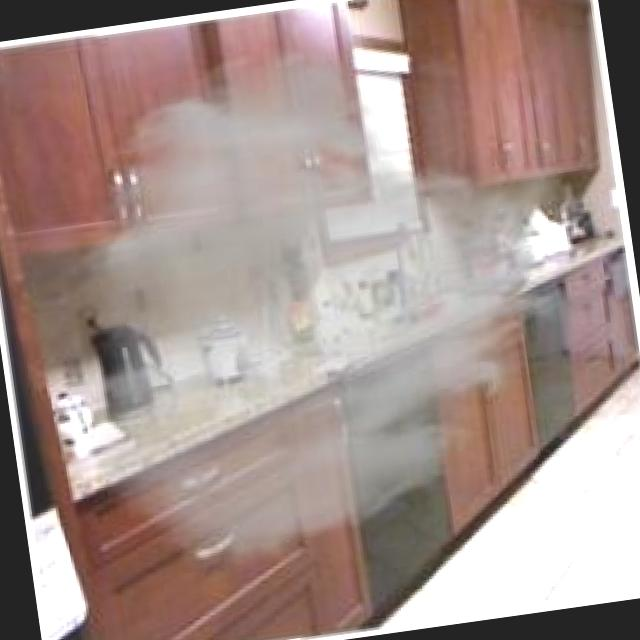smoke: (123, 119, 506, 482)
